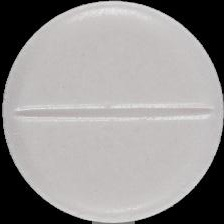10544-545: (0, 0, 224, 224)
